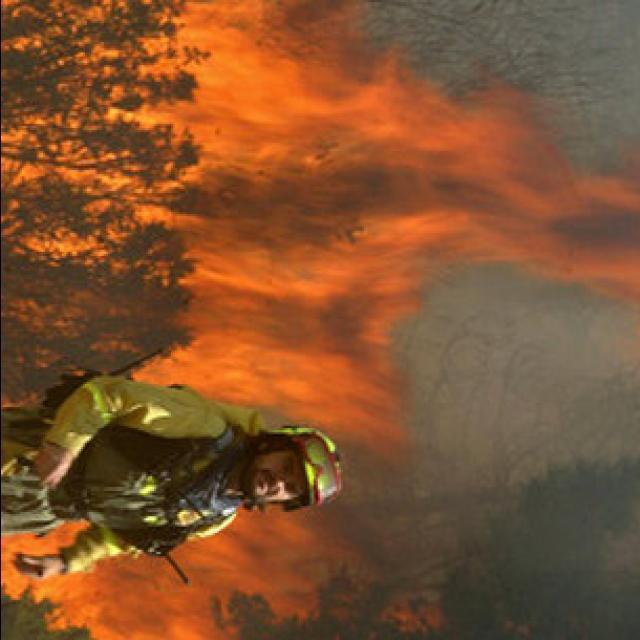Fire: (0, 4, 628, 640)
